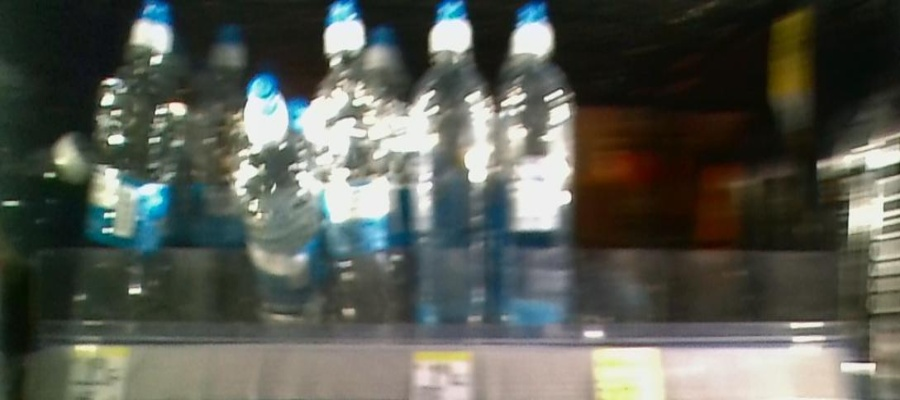bottle: (87, 9, 179, 323), (409, 1, 495, 330), (498, 1, 574, 345), (321, 7, 400, 326), (234, 72, 312, 330)
